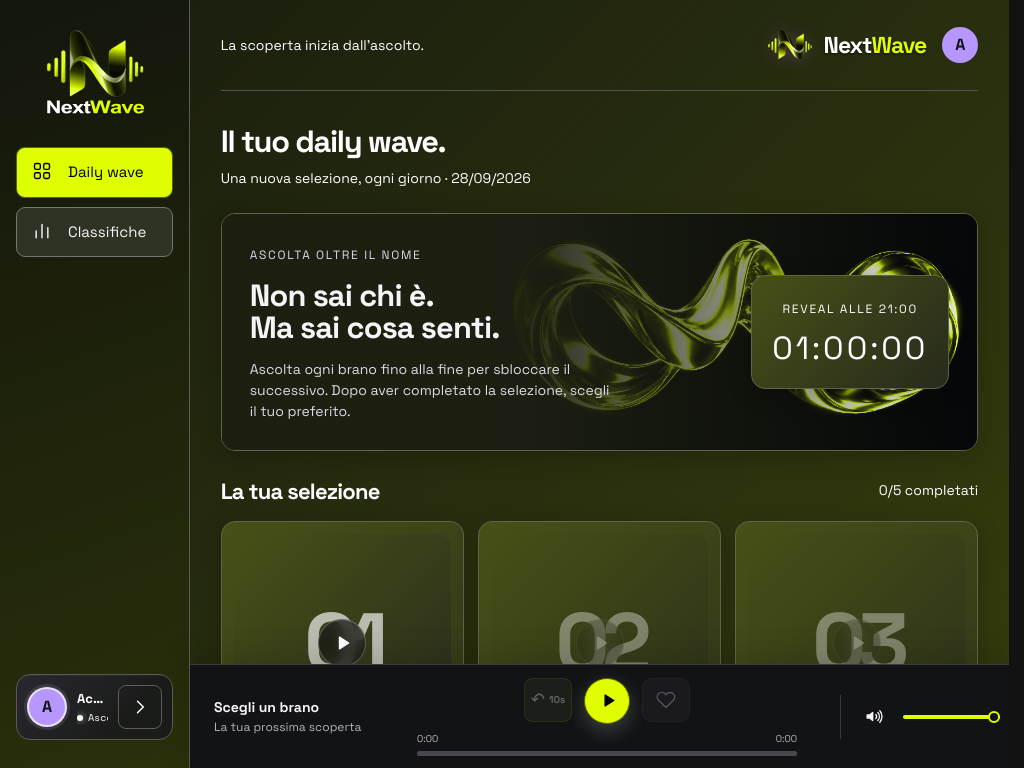
Test case: account cloud › la sezione artisti si attiva dal profilo e sparisce tornando ascoltatore
Check: the navigation bar named "Navigazione principale" is shown, box [16,147,173,257]
Check: the heading "La tua selezione" is shown, box [221,479,380,503]
Click the link with aria-label "Apri il tuo profilo" at (94, 707), box [16,674,173,740]
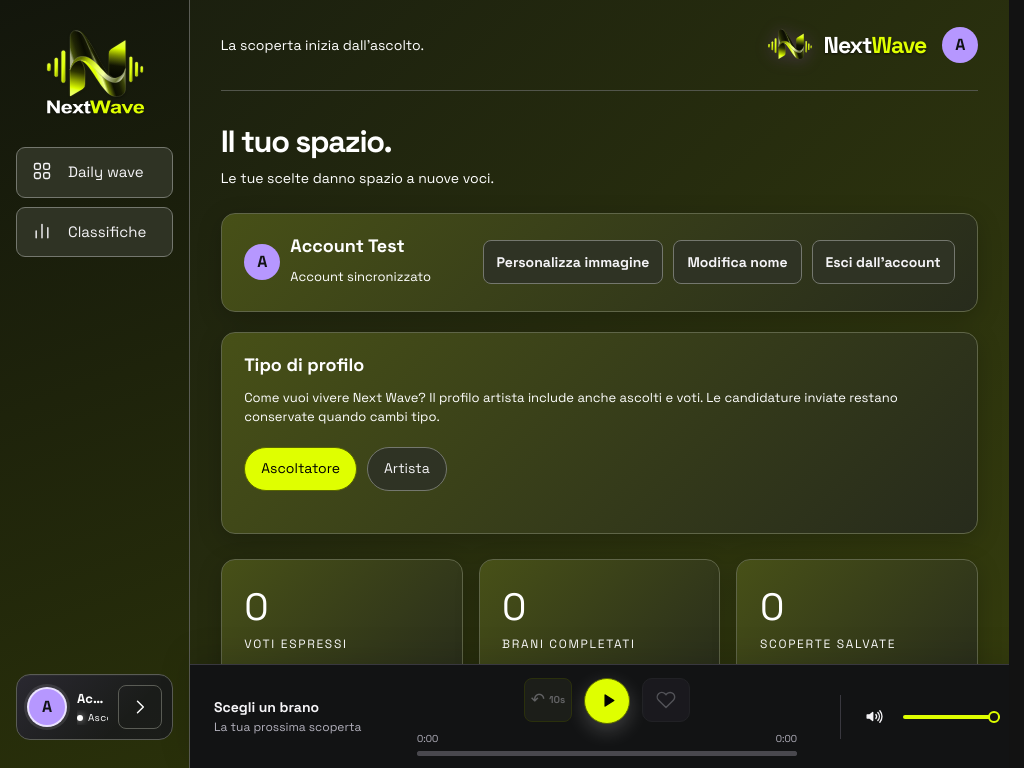
Click the button "Artista" at (407, 469), box [367,447,447,491]
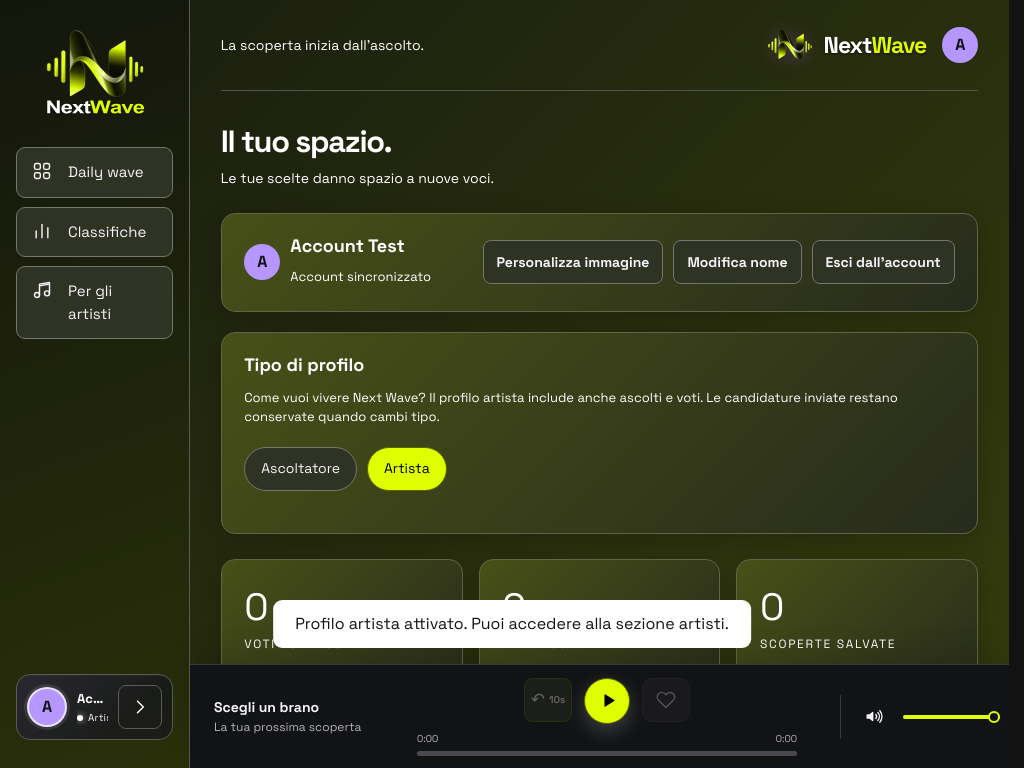
Check: the link "Per gli artisti" is shown
Click the link "Per gli artisti" at (94, 303), box [16,266,173,339]
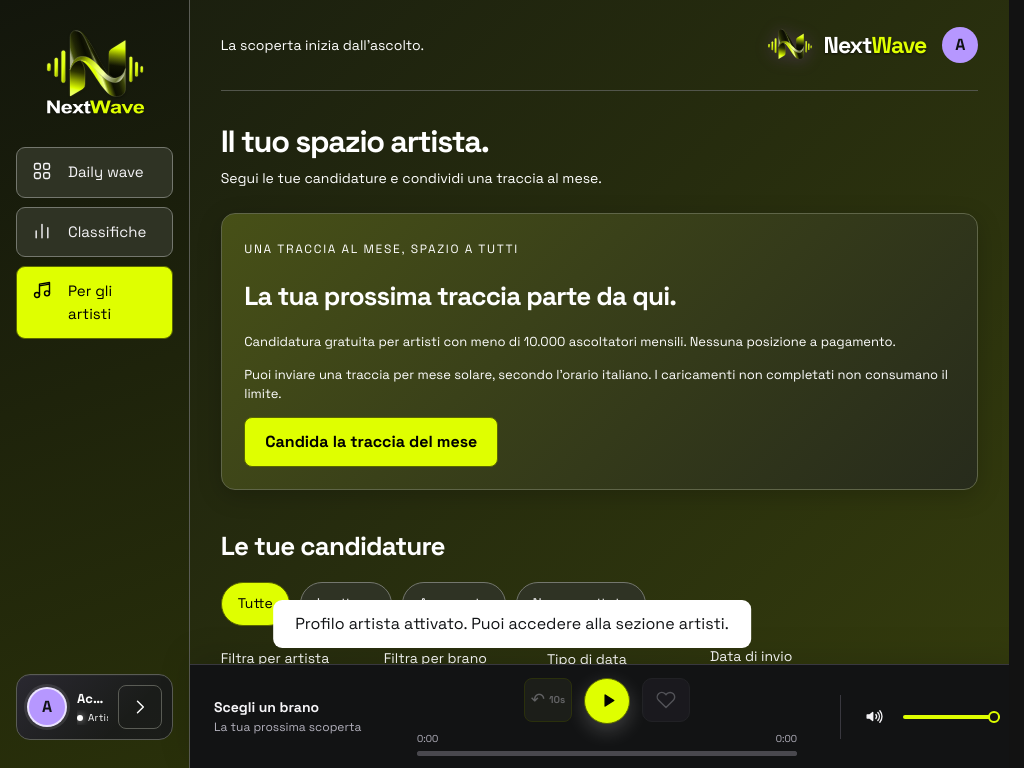
Click the button "Candida la traccia del mese" at (371, 442), box [244,416,498,466]
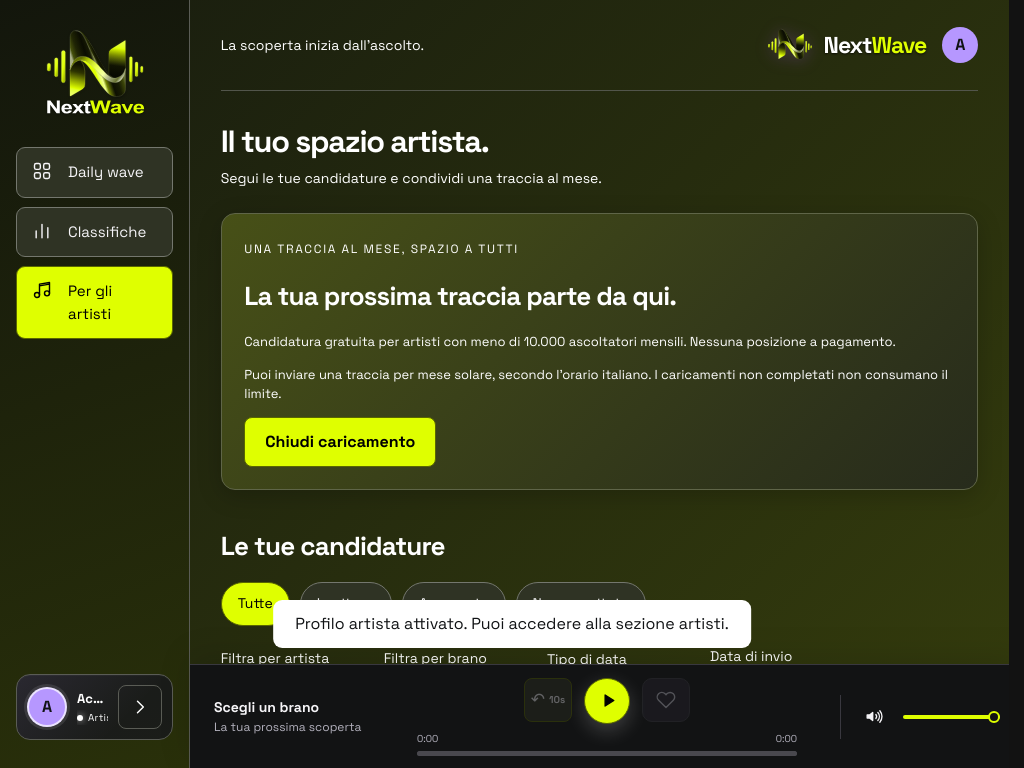
Click the link with aria-label "Apri il tuo profilo" at (94, 707), box [16,674,173,740]
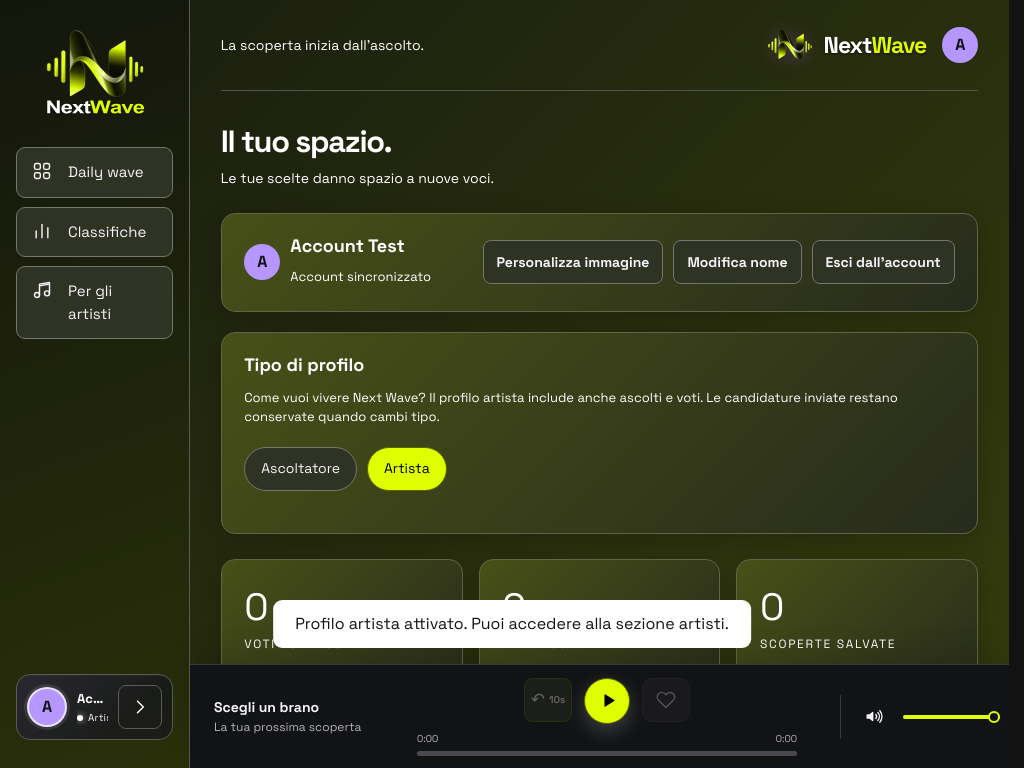
Click the button "Ascoltatore" at (301, 469), box [244,447,357,491]
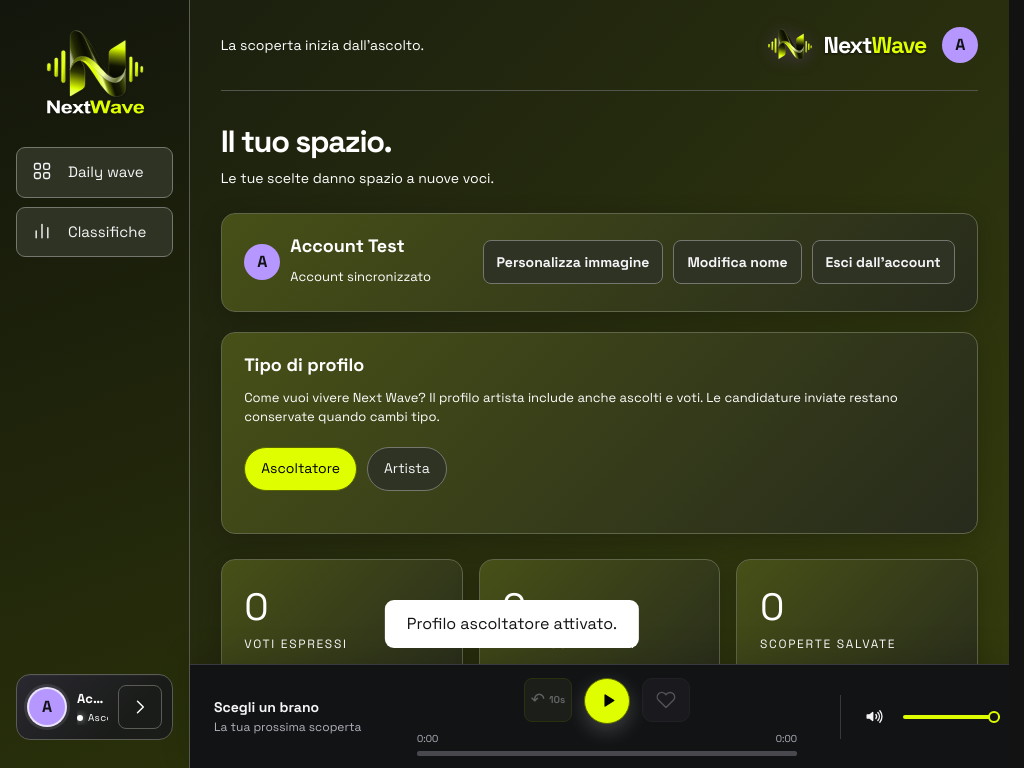
Check: the link "Per gli artisti" is gone
